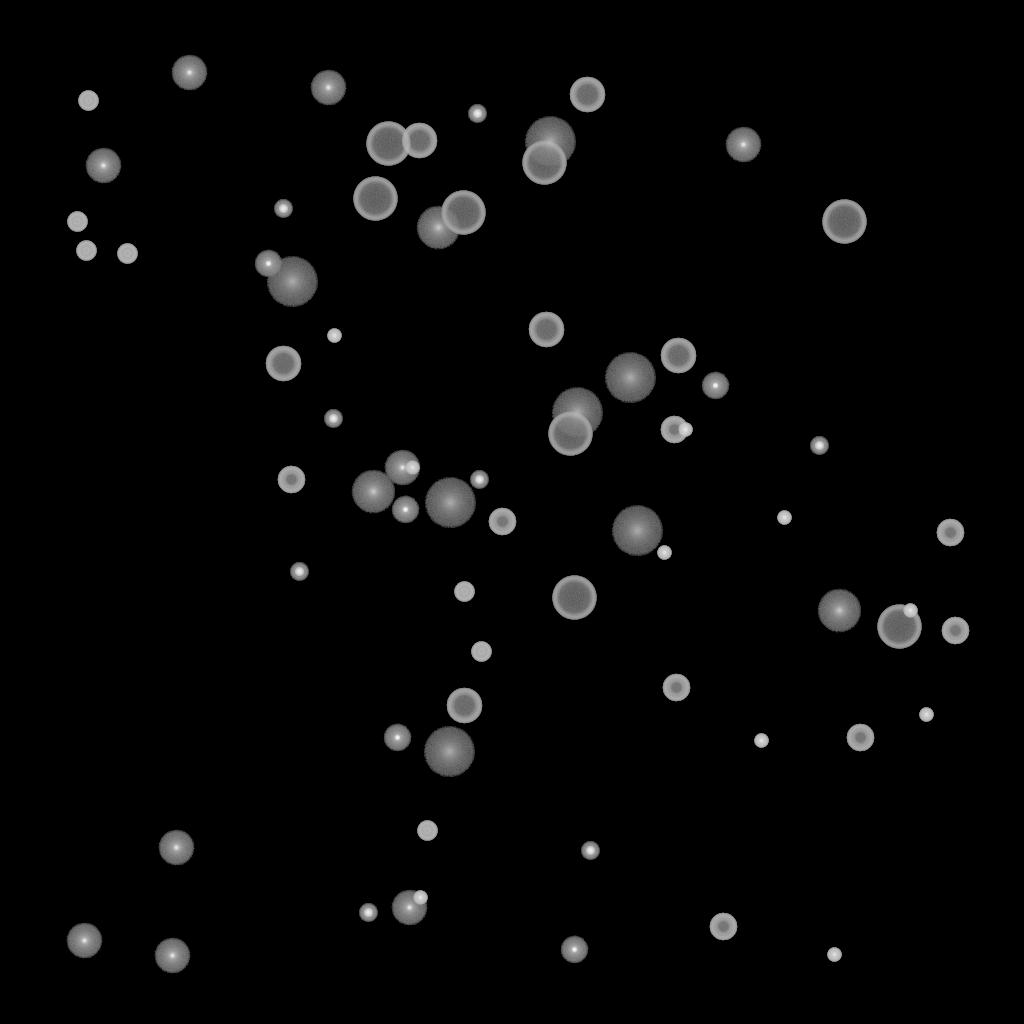depth:-10: (391, 496, 419, 524), (560, 936, 588, 964), (701, 372, 729, 400), (383, 724, 411, 752), (254, 250, 282, 278)
depth:-20: (359, 904, 377, 922), (470, 471, 488, 489), (324, 410, 342, 428), (810, 437, 828, 455), (290, 563, 308, 581), (274, 200, 292, 218), (468, 105, 486, 123), (581, 842, 599, 860)
depth:-30: (827, 948, 841, 962), (327, 329, 341, 343), (405, 461, 419, 475), (657, 546, 671, 560), (903, 604, 917, 618), (919, 708, 933, 722), (777, 511, 791, 525), (413, 891, 427, 905), (678, 423, 692, 437), (754, 734, 768, 748)
depth:-40: (454, 582, 474, 602), (67, 212, 87, 232), (117, 244, 137, 264), (417, 821, 437, 841), (471, 642, 491, 662), (76, 241, 96, 261), (78, 91, 98, 111)
depth:-50: (662, 674, 690, 702), (277, 466, 305, 494), (709, 913, 737, 941), (488, 508, 516, 536), (936, 519, 964, 547), (846, 724, 874, 752), (941, 617, 969, 645), (660, 416, 688, 444)
depth:-60: (660, 338, 696, 374), (569, 77, 605, 113), (446, 688, 482, 724), (401, 123, 437, 159), (528, 312, 564, 348), (265, 346, 301, 382)
depth:-70: (552, 576, 596, 620), (548, 412, 592, 456), (522, 141, 566, 185), (877, 605, 921, 649), (353, 177, 397, 221), (441, 191, 485, 235), (822, 200, 866, 244), (366, 122, 410, 166)
depth:0: (384, 450, 420, 486), (154, 938, 190, 974), (66, 923, 102, 959), (725, 127, 761, 163), (310, 70, 346, 106), (391, 890, 427, 926), (158, 830, 194, 866), (85, 148, 121, 184), (171, 55, 207, 91)
depth:10: (817, 589, 861, 633), (416, 206, 460, 250), (351, 470, 395, 514)
depth:20: (423, 727, 475, 777), (266, 257, 318, 307), (424, 478, 476, 528), (524, 117, 576, 167), (551, 388, 603, 438), (611, 506, 663, 556), (604, 353, 656, 403)
